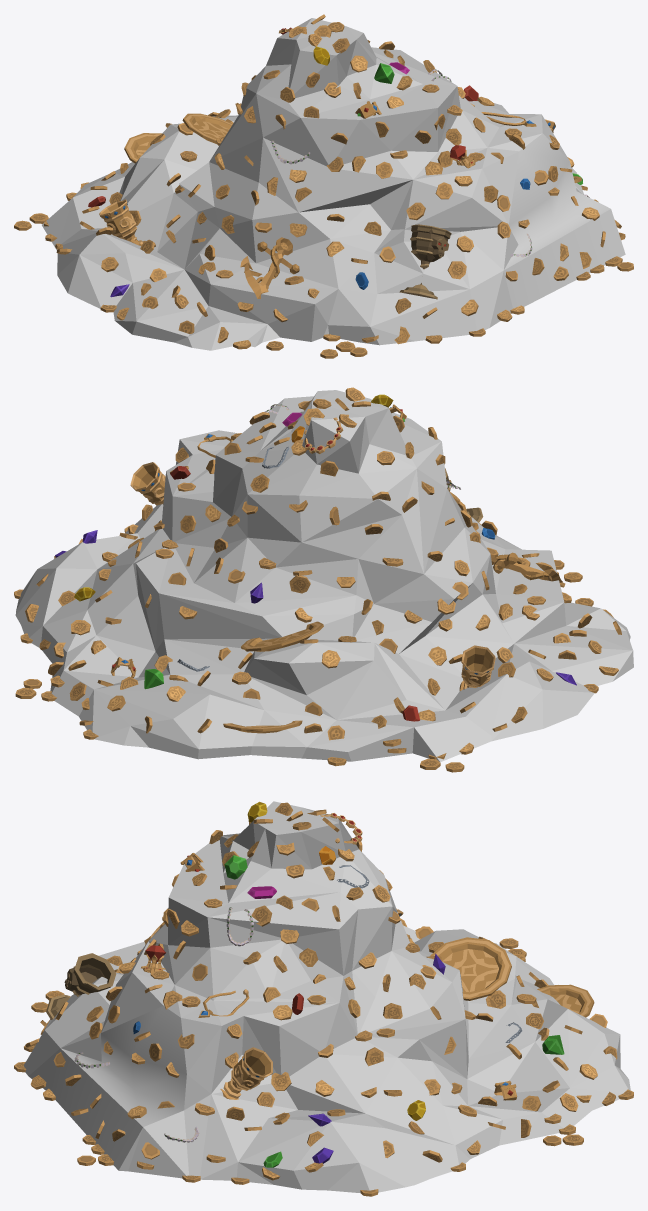
The model's file is SM_Prop_Treasure_Pile_03.fbx.
3 renders of one model, top to bottom at view 1: azimuth 30°, elevation 25°; view 2: azimuth 150°, elevation 25°; view 3: azimuth 270°, elevation 25°, orthographic. The views are drawn at different scales.
Visible parts, largest first — view 1: SM_Prop_Treasure_Pile_03; view 2: SM_Prop_Treasure_Pile_03; view 3: SM_Prop_Treasure_Pile_03.
Boxes of the visible parts, x1,y1,x2,y2 form: SM_Prop_Treasure_Pile_03: [14, 14, 633, 358]; SM_Prop_Treasure_Pile_03: [14, 387, 633, 772]; SM_Prop_Treasure_Pile_03: [14, 801, 633, 1196].
Bounding box in the file's own units: 317 × 134 × 308.
